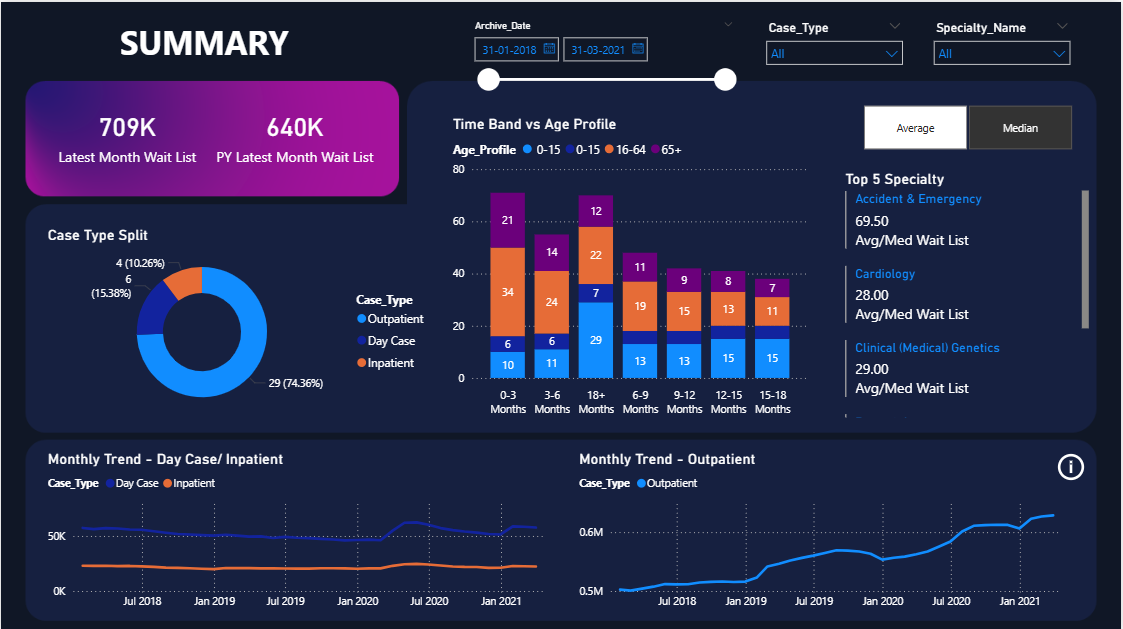

The page's visual inventory and layout, read from the dashboard file:
{"tool":"powerbi","page":{"name":"Summary ","canvas":[1280,720],"ordinal":0},"visuals":[{"type":"card","fields":{"Values":["All_Data.Latest Month Wait List"]},"box":[48,96,192,112],"z":0},{"type":"card","fields":{"Values":["All_Data.PY Latest Month Wait List"]},"box":[240,96,192,112],"z":1000},{"type":"slicer","fields":{"Values":["Calculation Method.Calc Method "]},"box":[960,112,288,64],"z":2000},{"type":"donutChart","title":"Case Type Split  ","fields":{"Category":["All_Data.Case_Type"],"Y":["All_Data.Avg/Med Wait List"]},"box":[48.6,255.7,448.6,224.3],"z":3000},{"type":"columnChart","title":"Time Band vs Age Profile","fields":{"Y":["All_Data.Avg/Med Wait List"],"Category":["All_Data.Time_Bands"],"Series":["All_Data.Age_Profile"]},"box":[512,128,416,352],"z":4000},{"type":"multiRowCard","title":"Top 5 Specialty","fields":{"Values":["All_Data.Specialty_Name","All_Data.Avg/Med Wait List"]},"box":[960,192,288,288],"z":5000},{"type":"lineChart","title":"Monthly Trend - Day Case/ Inpatient","fields":{"Category":["All_Data.Archive_Date"],"Y":["Sum(All_Data.Total)"],"Series":["All_Data.Case_Type"]},"box":[48,512,592,192],"z":6000},{"type":"lineChart","title":"Monthly Trend - Outpatient","fields":{"Category":["All_Data.Archive_Date"],"Y":["Sum(All_Data.Total)"],"Series":["All_Data.Case_Type"]},"box":[656,512,576,192],"z":7000},{"type":"slicer","title":"Archive_Date","fields":{"Values":["All_Data.Archive_Date"]},"box":[528,16,320,96],"z":8000},{"type":"slicer","fields":{"Values":["All_Data.Case_Type"]},"box":[864,16,176,96],"z":9000},{"type":"slicer","fields":{"Values":["All_Data.Specialty_Name"]},"box":[1056,16,176,96],"z":10000},{"type":"textbox","box":[48,16,384,64],"z":11000},{"type":"actionButton","box":[1202.9,511.4,45.7,40],"z":12000}]}

Visuals, with their boxes in screenshot pixels (x1, y1, x2, y2), scaled from the page's 1280x720 canvas onto the 1123x629 screenshot:
card - All_Data.Latest Month Wait List: box(42, 84, 211, 182)
card - All_Data.PY Latest Month Wait List: box(211, 84, 379, 182)
slicer - Calculation Method.Calc Method : box(842, 98, 1095, 154)
"Case Type Split  " donutChart: box(43, 223, 436, 419)
"Time Band vs Age Profile" columnChart: box(449, 112, 814, 419)
"Top 5 Specialty" multiRowCard: box(842, 168, 1095, 419)
"Monthly Trend - Day Case/ Inpatient" lineChart: box(42, 447, 562, 615)
"Monthly Trend - Outpatient" lineChart: box(576, 447, 1081, 615)
"Archive_Date" slicer: box(463, 14, 744, 98)
slicer - All_Data.Case_Type: box(758, 14, 912, 98)
slicer - All_Data.Specialty_Name: box(926, 14, 1081, 98)
textbox: box(42, 14, 379, 70)
actionButton: box(1055, 447, 1095, 482)
